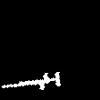double_crochet: (2, 72, 60, 89)
